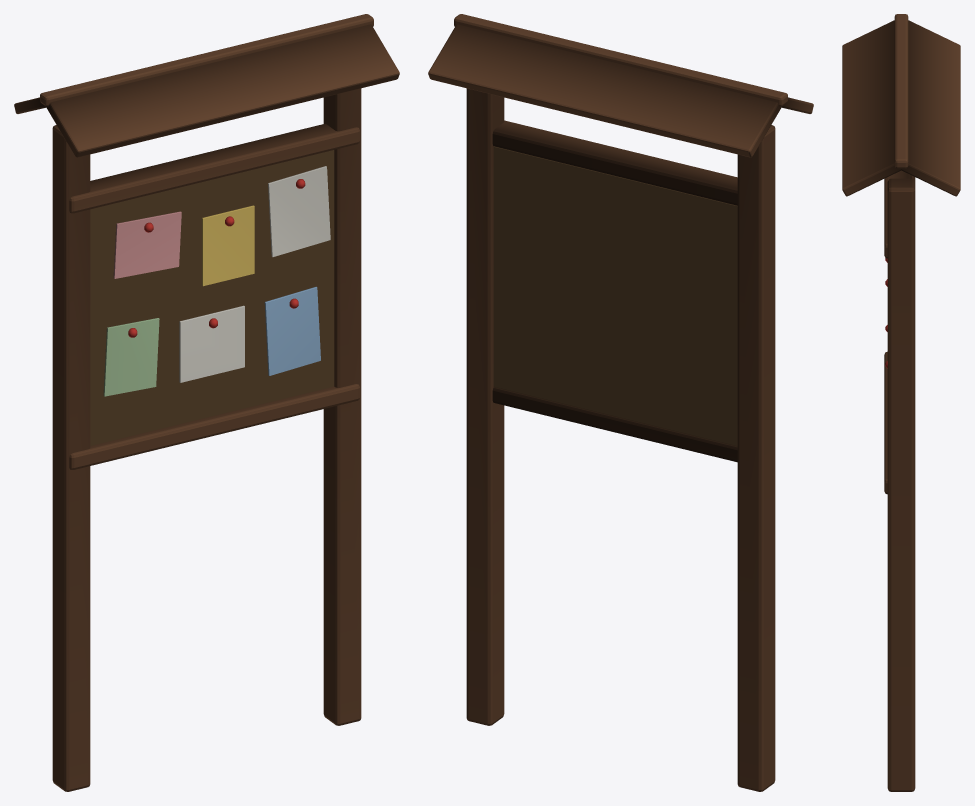
Rendered from noticeBoard.glb.
3 renders of one model, left to right at view 1: azimuth 30°, elevation 25°; view 2: azimuth 150°, elevation 25°; view 3: azimuth 270°, elevation 25°, orthographic. The views are drawn at different scales.
Visible parts, largest first — view 1: noticeBoard; view 2: noticeBoard; view 3: noticeBoard.
Part boxes in pixels (x1,y1,x2,y2): noticeBoard: (14, 14, 399, 791); noticeBoard: (428, 14, 813, 791); noticeBoard: (842, 14, 960, 791).
Bounding box in the file's own units: 1.02 × 2.07 × 0.3467.
